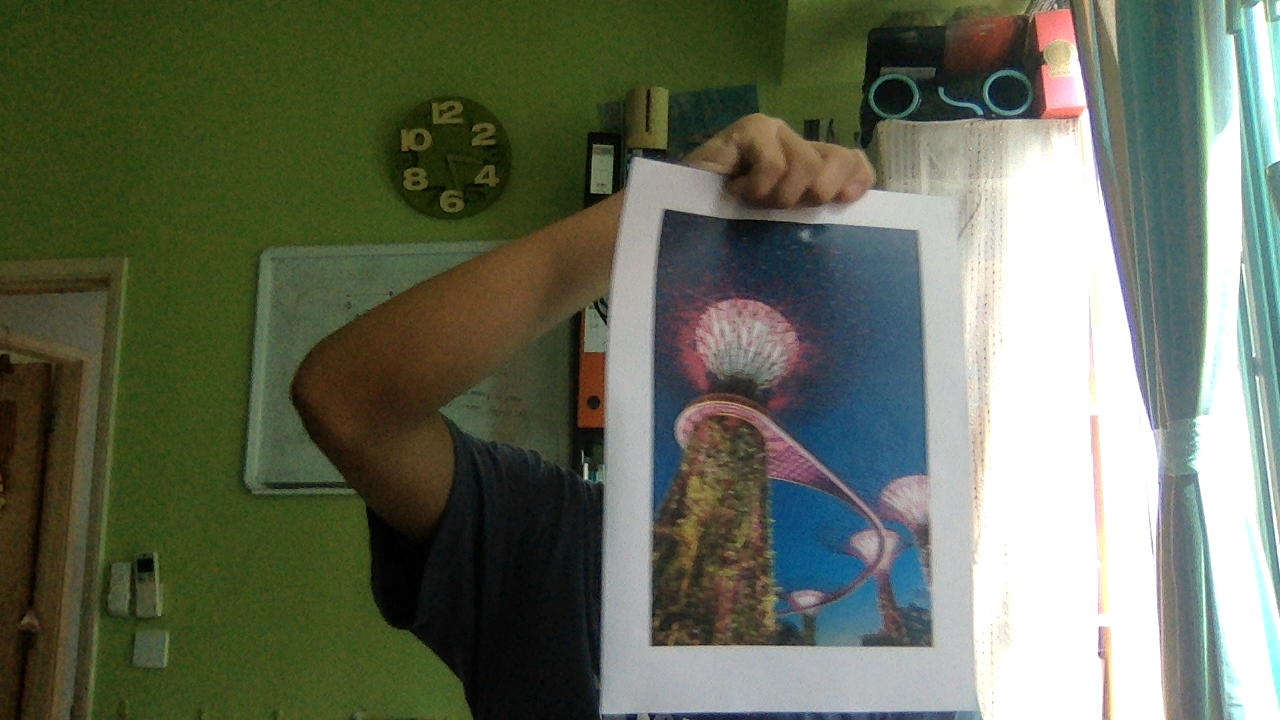GBTB: (650, 205, 940, 654)
